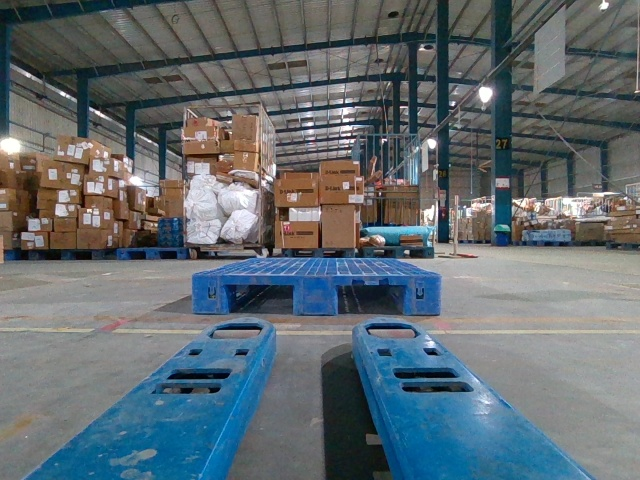block: (292, 275, 339, 318), (188, 275, 228, 317), (407, 275, 440, 313)
front: (193, 275, 440, 314)
hole pallet: (336, 284, 408, 314), (223, 286, 295, 313)
